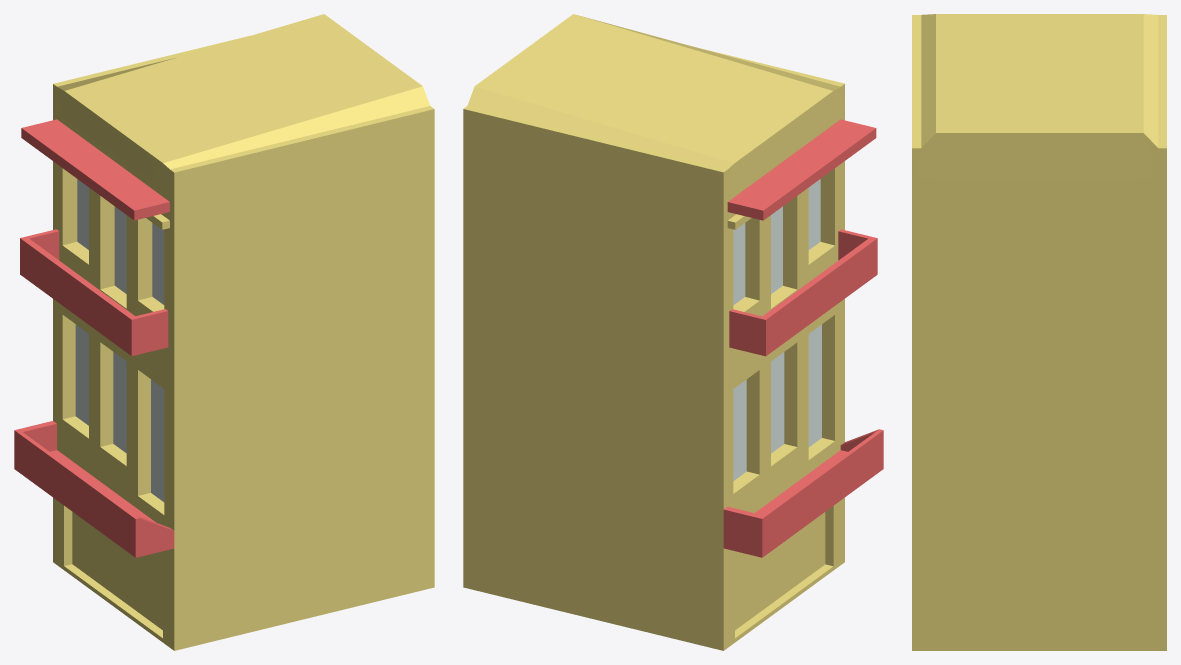
The picture shows the model from 3 angles, left to right: view 1: azimuth 30°, elevation 25°; view 2: azimuth 150°, elevation 25°; view 3: azimuth 270°, elevation 25°; orthographic projection. The views are drawn at different scales.
Visible parts, largest first — view 1: Chung cu pink; view 2: Chung cu pink; view 3: Chung cu pink.
Part boxes in pixels (box(x1,y1,x2,y2)): Chung cu pink: box(14, 14, 434, 650); Chung cu pink: box(463, 14, 883, 650); Chung cu pink: box(912, 14, 1166, 650).
Bounding box in the file's own units: 454 × 716 × 319.
